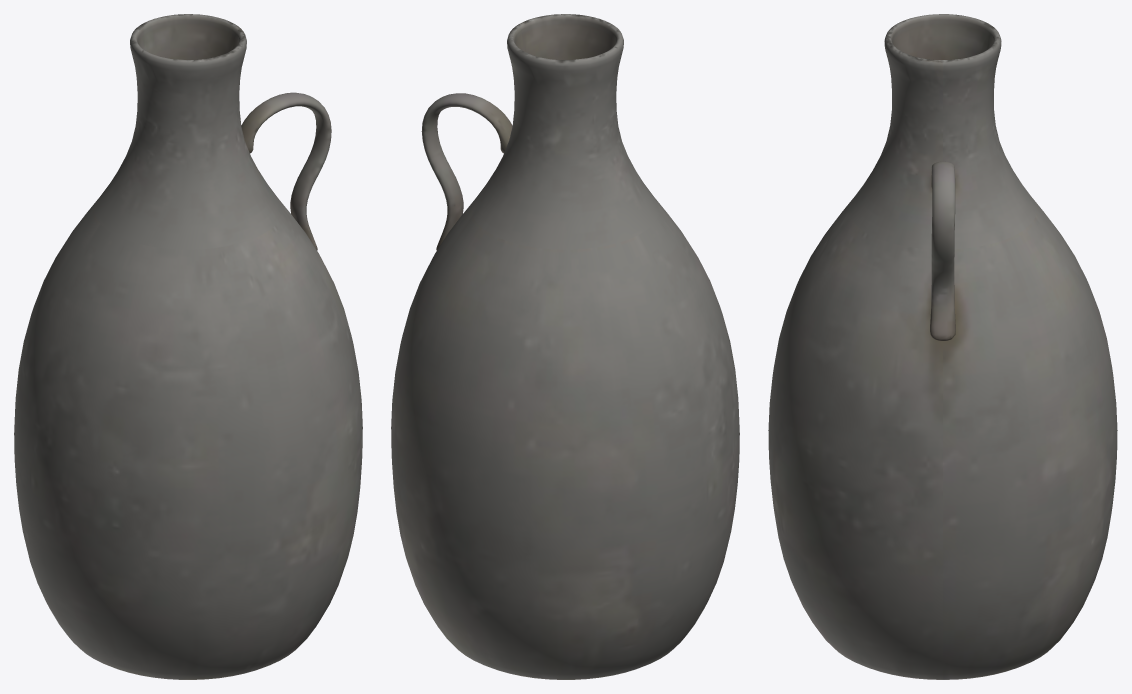
Rendered from ceramic_vase_04.glb.
The picture shows the model from 3 angles, left to right: view 1: azimuth 30°, elevation 25°; view 2: azimuth 150°, elevation 25°; view 3: azimuth 270°, elevation 25°; orthographic projection.
Parts seen in each view (by area): view 1: ceramic_vase_04; view 2: ceramic_vase_04; view 3: ceramic_vase_04.
Part boxes in pixels (x1,y1,x2,y2): ceramic_vase_04: (14,14,362,679); ceramic_vase_04: (391,14,739,679); ceramic_vase_04: (768,14,1117,679).
Bounding box in the file's own units: 0.1811 × 0.3419 × 0.1811.
1 material, 1 textured.
